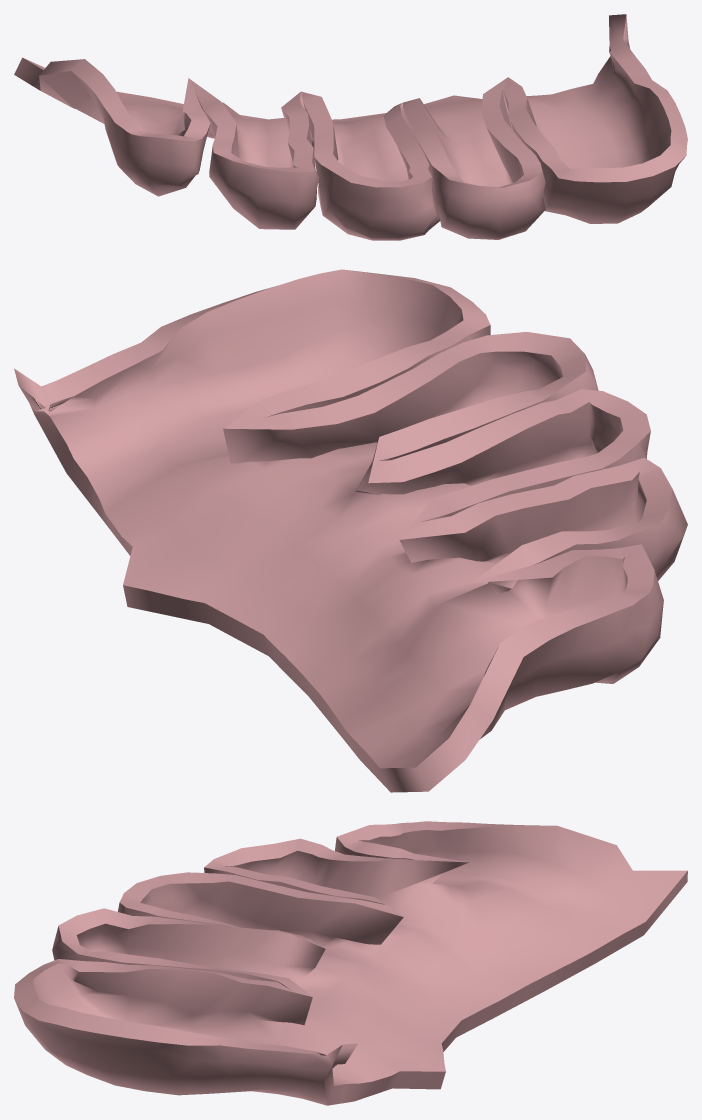
The picture shows the model from 3 angles, top to bottom: view 1: azimuth 30°, elevation 25°; view 2: azimuth 150°, elevation 25°; view 3: azimuth 270°, elevation 25°; orthographic projection. The views are drawn at different scales.
Parts seen in each view (by area): view 1: ZA_abc7160cfe1d414a; view 2: ZA_abc7160cfe1d414a; view 3: ZA_abc7160cfe1d414a.
Part boxes in pixels (bbox=[...]): ZA_abc7160cfe1d414a: bbox=[14, 14, 687, 240]; ZA_abc7160cfe1d414a: bbox=[14, 269, 687, 792]; ZA_abc7160cfe1d414a: bbox=[14, 821, 687, 1105].
Size of the model in its own units: 0.0851 by 0.0189 by 0.098.
